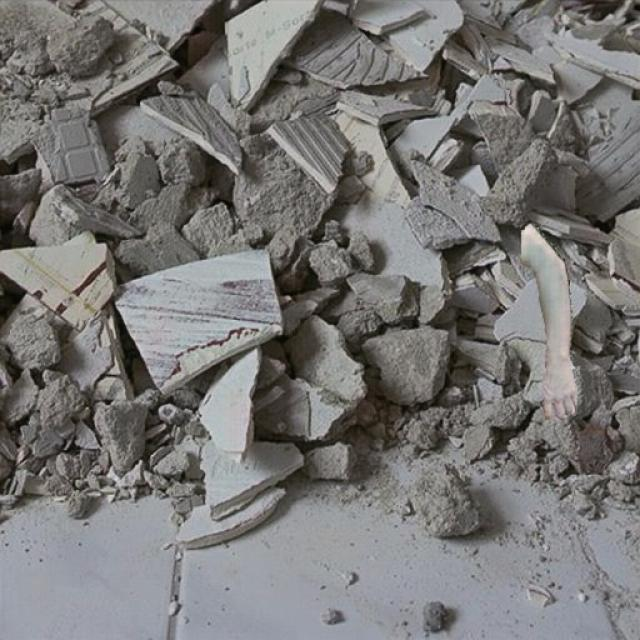Person in Rubble: (522, 222, 576, 418)
